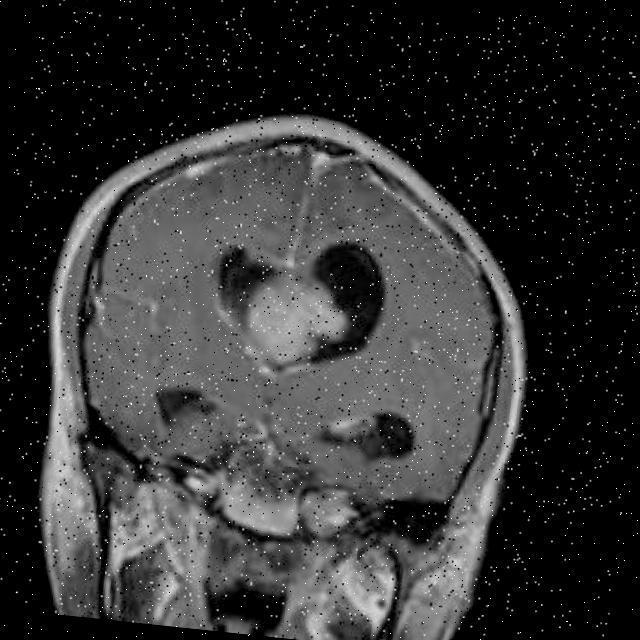EMCI: (218, 204, 340, 336)
MCI: (282, 365, 472, 505)
